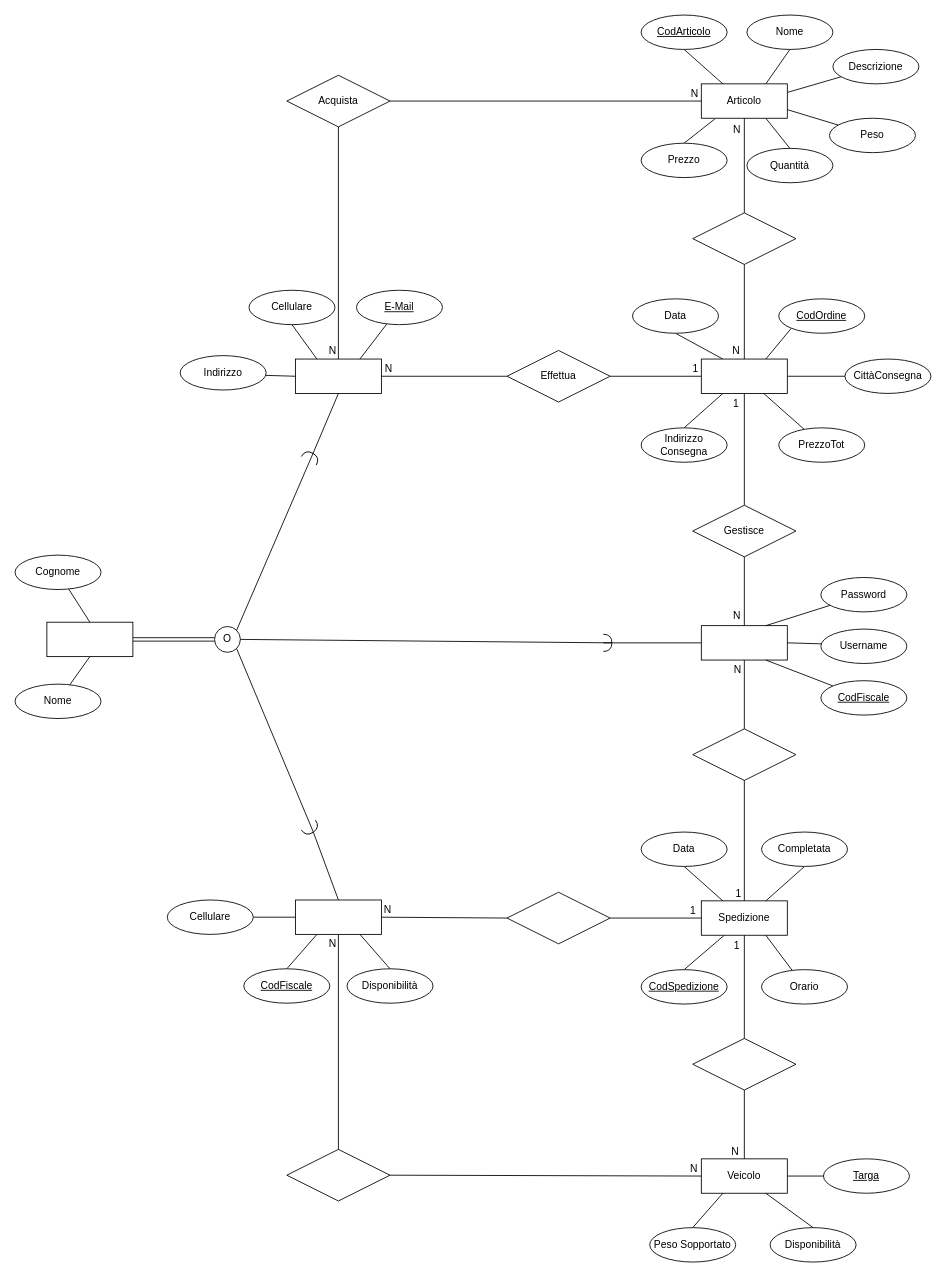
Image size: 946x1277. Some labels were removed from this diagram. Each missing label, with the centre of its shape:
"Adoperare" goes at pixel 744 1064.
"Avere In Incarico" goes at pixel 558 917.
"Cliente" goes at pixel 338 375.
"Corriere" goes at pixel 338 916.
"Guida" goes at pixel 338 1175.
"Operatore" goes at pixel 743 642.
"Ordine" goes at pixel 743 375.
"Persona" goes at pixel 89 639.
"Pianifica" goes at pixel 744 754.
"Riferito a" goes at pixel 744 238.
